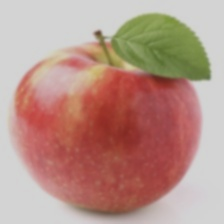apple: (57, 33, 194, 207)
